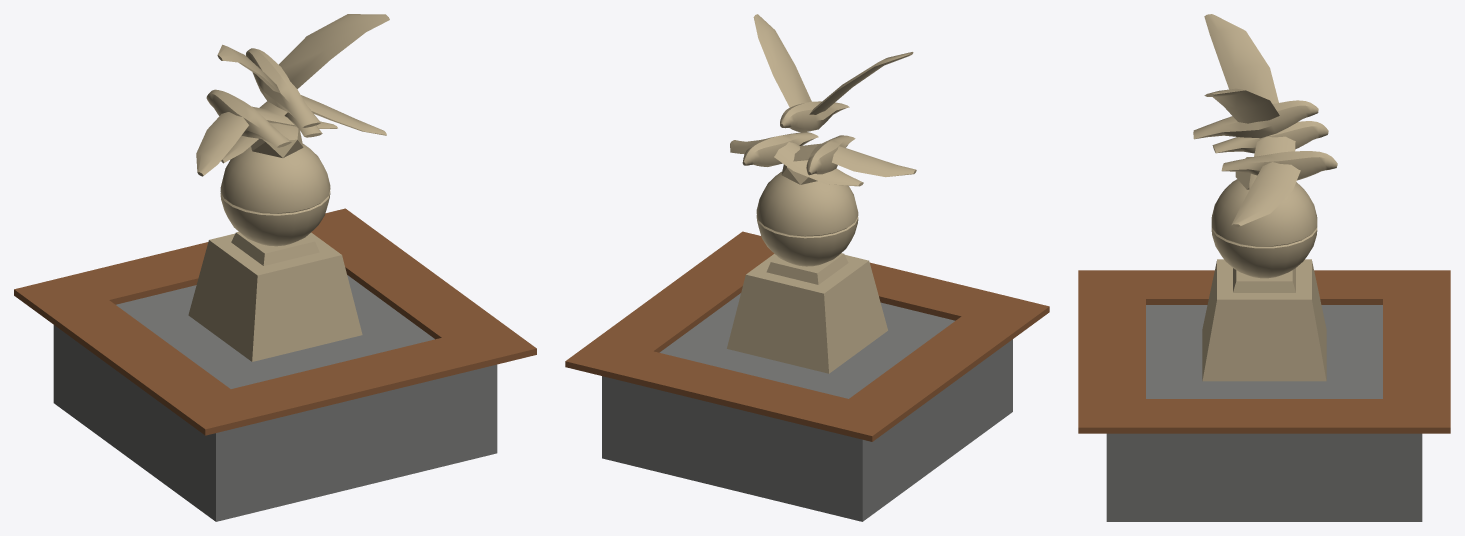
Rendered from mon_fluegelradbrunnen.glb.
3 renders of one model, left to right at view 1: azimuth 30°, elevation 25°; view 2: azimuth 150°, elevation 25°; view 3: azimuth 270°, elevation 25°, orthographic. The views are drawn at different scales.
Parts seen in each view (by area): view 1: mon_fluegelradbrunnen; view 2: mon_fluegelradbrunnen; view 3: mon_fluegelradbrunnen.
Part boxes in pixels (x1,y1,x2,y2): mon_fluegelradbrunnen: [14, 14, 536, 521]; mon_fluegelradbrunnen: [565, 14, 1049, 521]; mon_fluegelradbrunnen: [1078, 14, 1450, 521].
Bounding box in the file's own units: 3.3 × 3.93 × 3.3.
